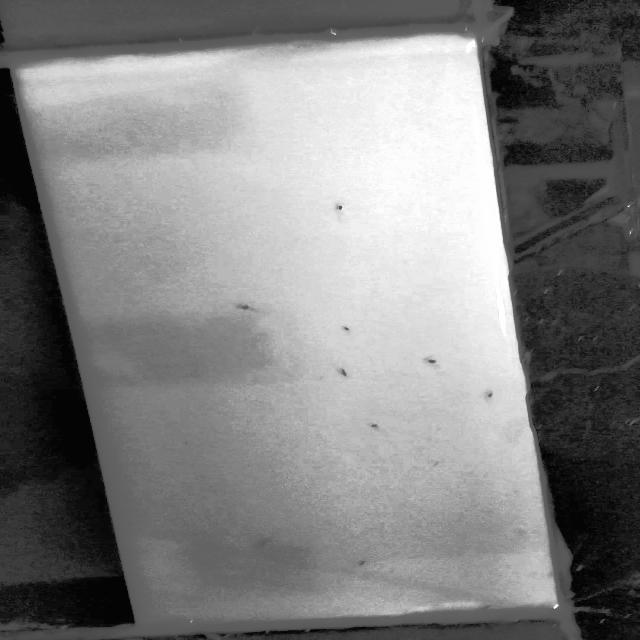shrimp: (236, 305, 271, 317), (366, 421, 402, 431), (478, 391, 504, 404), (332, 203, 352, 216), (256, 537, 279, 548), (422, 358, 446, 368), (331, 369, 356, 378), (342, 325, 361, 334), (355, 559, 374, 565), (482, 604, 499, 610)
